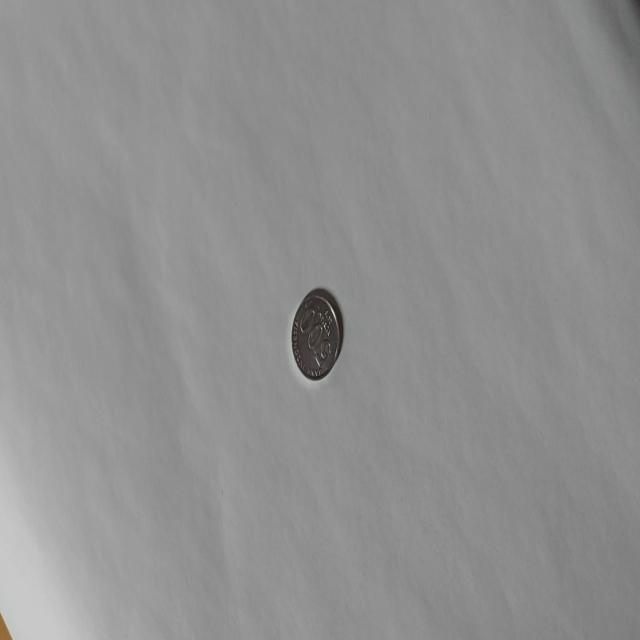lima ratus rupiah: (290, 286, 342, 382)
